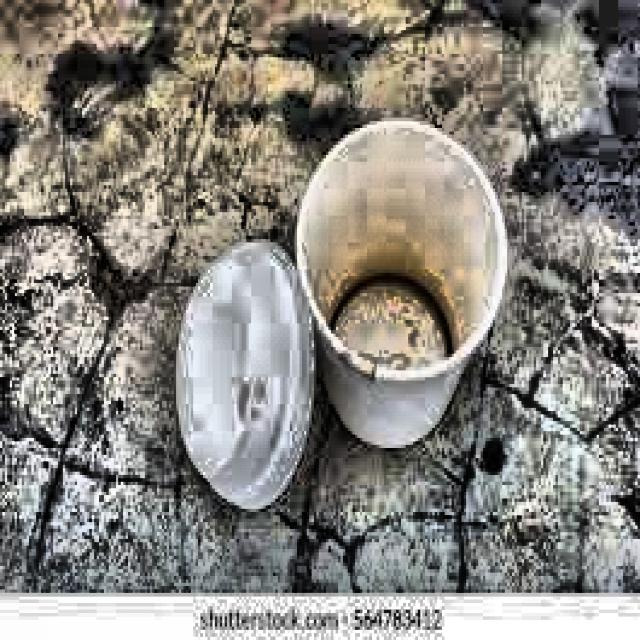Cup: (291, 108, 520, 481)
